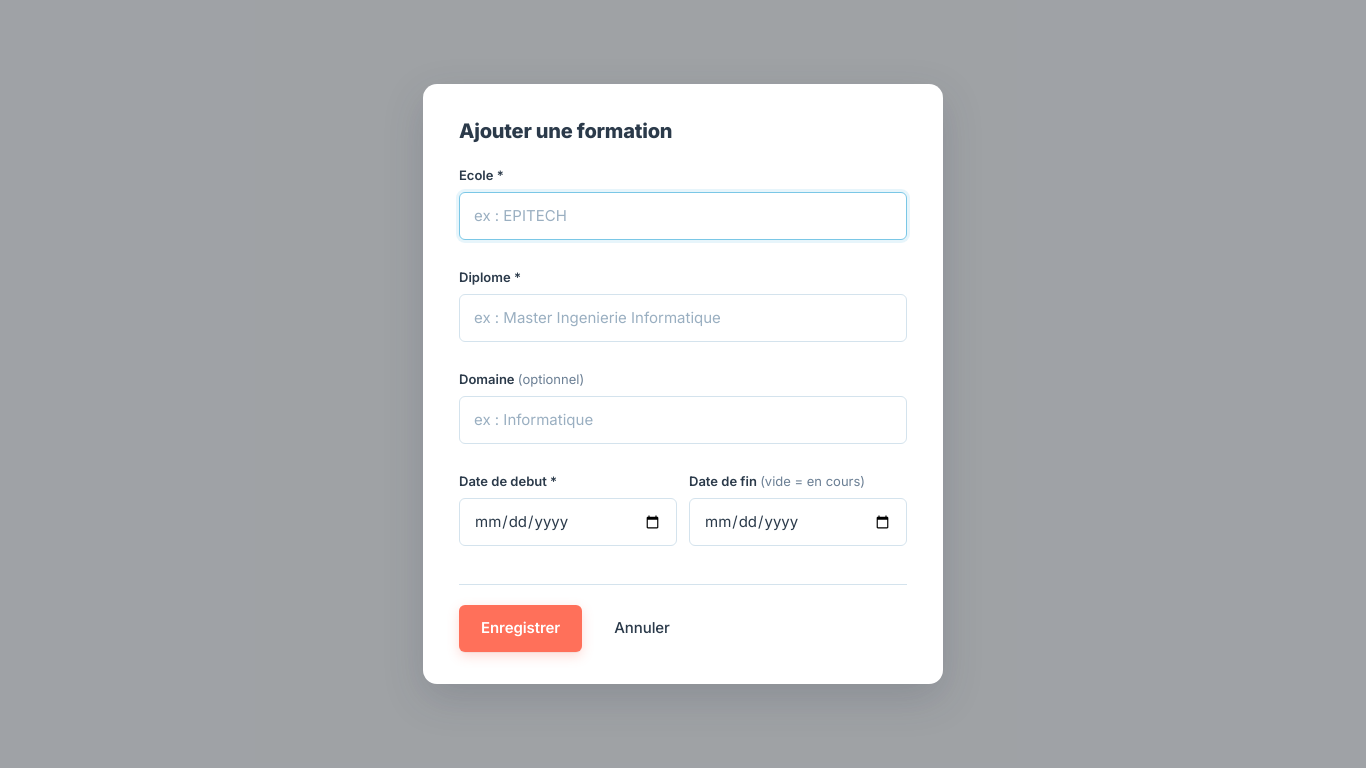
ProfileFormModal — education create › shows_validation_errors_when_required_fields_are_missing
What coordinates should you click on to do the following:
click the button "Enregistrer"
I would click on:
 (521, 629)
Its box is [459,605,582,652].
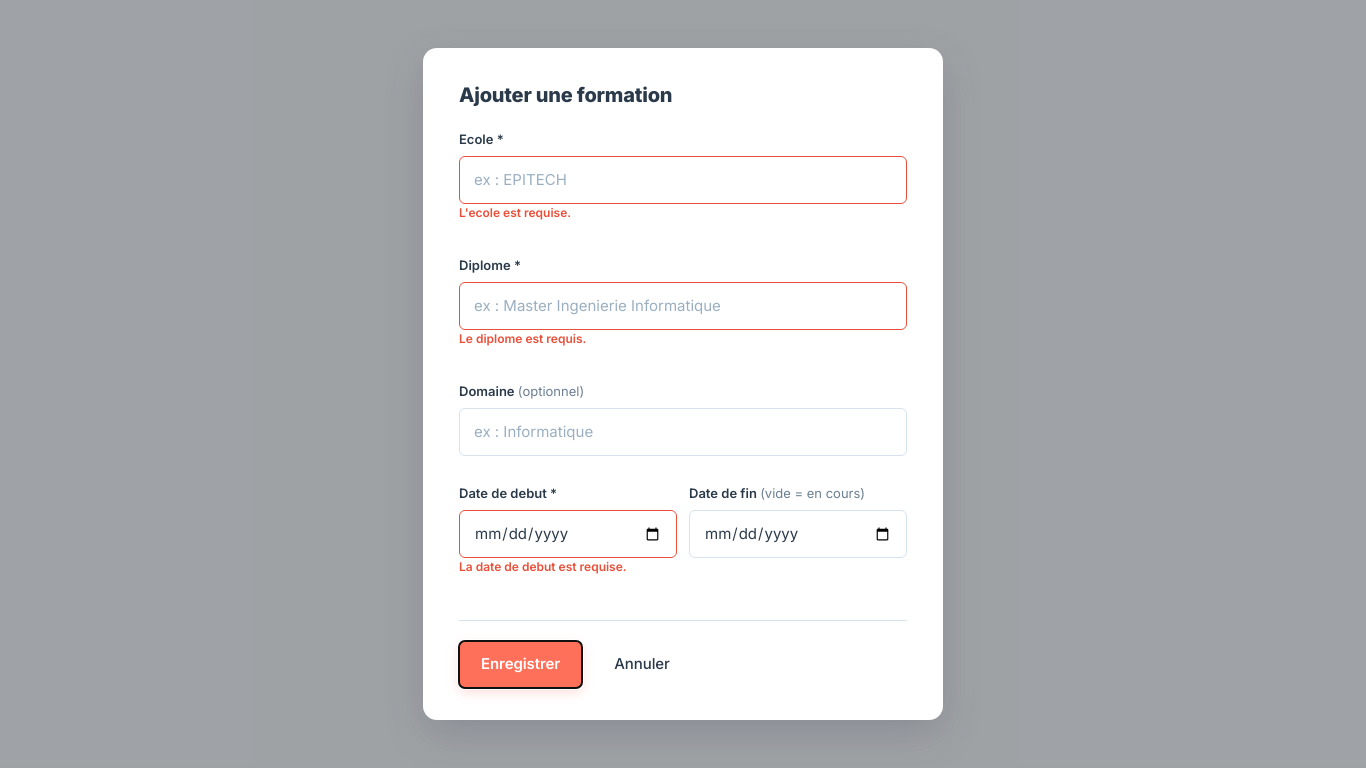
Result: the text "L'ecole est requise." is shown at [459,205,571,220]
